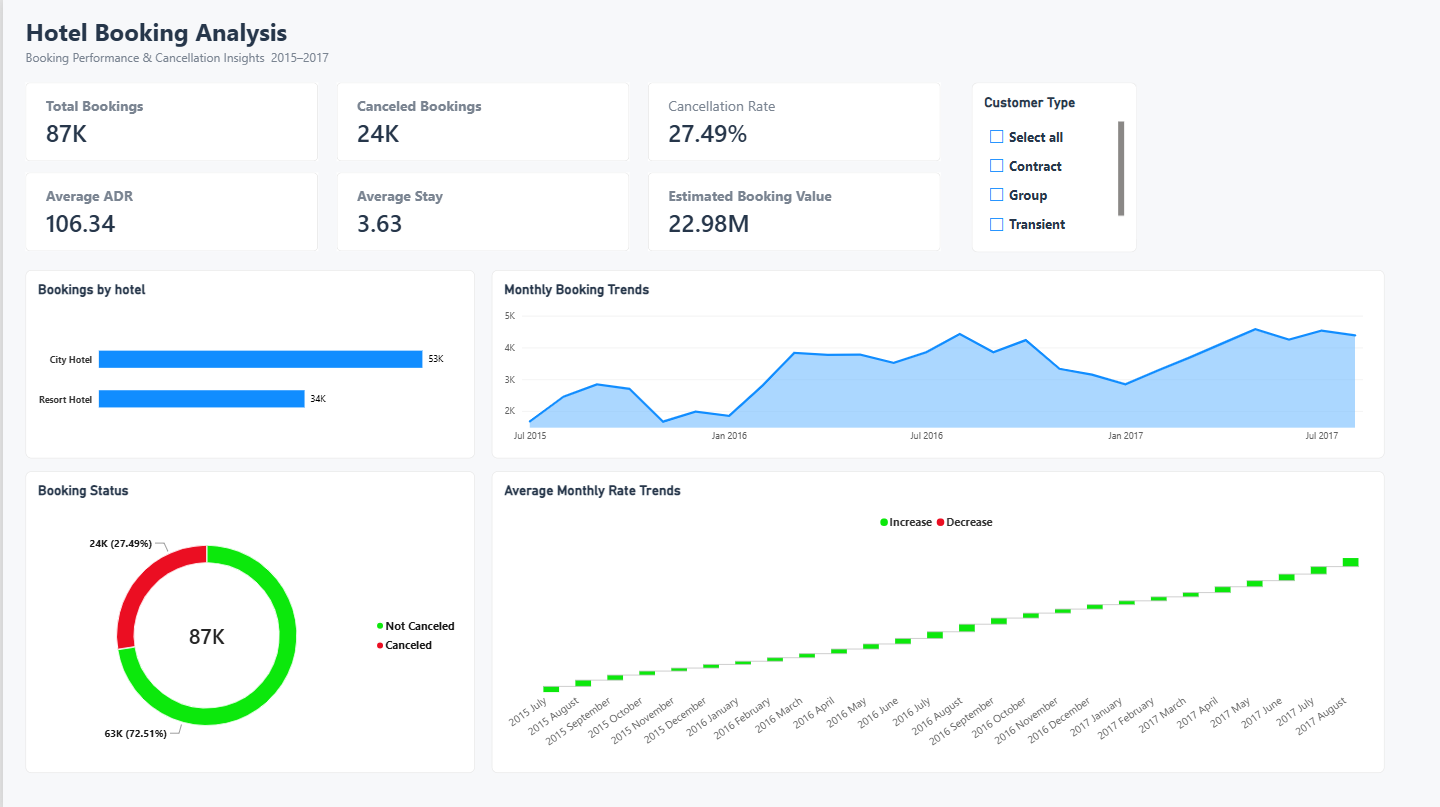

The page's visual inventory and layout, read from the dashboard file:
{"tool":"powerbi","page":{"name":"Hotel Booking Analysis","canvas":[1920,1080],"ordinal":0},"visuals":[{"type":"cardVisual","fields":{"Data":["hotel_bookings_cleaned.Total Bookings"]},"box":[30,110,390,105],"z":0},{"type":"cardVisual","fields":{"Data":["hotel_bookings_cleaned.Cancellation Rate"]},"box":[860,110,390,105],"z":1000},{"type":"cardVisual","fields":{"Data":["hotel_bookings_cleaned.Average ADR"]},"box":[30,230,390,105],"z":2000},{"type":"cardVisual","fields":{"Data":["hotel_bookings_cleaned.Total Canceled Bookings"]},"box":[445,110,390,105],"z":3000},{"type":"cardVisual","fields":{"Data":["hotel_bookings_cleaned.Average Stay"]},"box":[445,230,390,105],"z":4000},{"type":"cardVisual","fields":{"Data":["hotel_bookings_cleaned.Estimated Booking Value"]},"box":[860,230,390,105],"z":5000},{"type":"textbox","title":"Hotel Booking Analysis","box":[30,20,1236,78],"z":6000},{"type":"areaChart","title":"Monthly Booking Trends","fields":{"Category":["hotel_bookings_cleaned.arrival_date.Variation.Date Hierarchy.Year","hotel_bookings_cleaned.arrival_date.Variation.Date Hierarchy.Month"],"Y":["hotel_bookings_cleaned.Total Bookings"]},"box":[651.4,359.2,1190.3,251],"z":7000},{"type":"clusteredBarChart","title":"Bookings by hotel","fields":{"Category":["hotel_bookings_cleaned.hotel"],"Y":["hotel_bookings_cleaned.Total Bookings"]},"box":[30.3,359.2,599.5,251],"z":8000},{"type":"donutChart","title":"Booking Status","fields":{"Category":["hotel_bookings_cleaned.booking_status"],"Y":["hotel_bookings_cleaned.Total Bookings"]},"box":[30.3,627.6,599.5,402.5],"z":9000},{"type":"waterfallChart","title":"Average Monthly Rate Trends","fields":{"Category":["hotel_bookings_cleaned.arrival_date.Variation.Date Hierarchy.Year","hotel_bookings_cleaned.arrival_date.Variation.Date Hierarchy.Month","hotel_bookings_cleaned.arrival_date.Variation.Date Hierarchy.Day"],"Y":["hotel_bookings_cleaned.Average ADR"]},"box":[651.4,627.6,1190.3,402.5],"z":10000},{"type":"slicer","title":"Customer Type","fields":{"Values":["hotel_bookings_cleaned.customer_type"]},"box":[1292,110,220,226],"z":10001}]}

Visuals, with their boxes in screenshot pixels (x1, y1, x2, y2), scaled from the page's 1920x1080 canvas onto the 1440x807 screenshot:
cardVisual - hotel_bookings_cleaned.Total Bookings: bbox=(22, 82, 315, 161)
cardVisual - hotel_bookings_cleaned.Cancellation Rate: bbox=(645, 82, 938, 161)
cardVisual - hotel_bookings_cleaned.Average ADR: bbox=(22, 172, 315, 250)
cardVisual - hotel_bookings_cleaned.Total Canceled Bookings: bbox=(334, 82, 626, 161)
cardVisual - hotel_bookings_cleaned.Average Stay: bbox=(334, 172, 626, 250)
cardVisual - hotel_bookings_cleaned.Estimated Booking Value: bbox=(645, 172, 938, 250)
"Hotel Booking Analysis" textbox: bbox=(22, 15, 950, 73)
"Monthly Booking Trends" areaChart: bbox=(489, 268, 1381, 456)
"Bookings by hotel" clusteredBarChart: bbox=(23, 268, 472, 456)
"Booking Status" donutChart: bbox=(23, 469, 472, 770)
"Average Monthly Rate Trends" waterfallChart: bbox=(489, 469, 1381, 770)
"Customer Type" slicer: bbox=(969, 82, 1134, 251)
